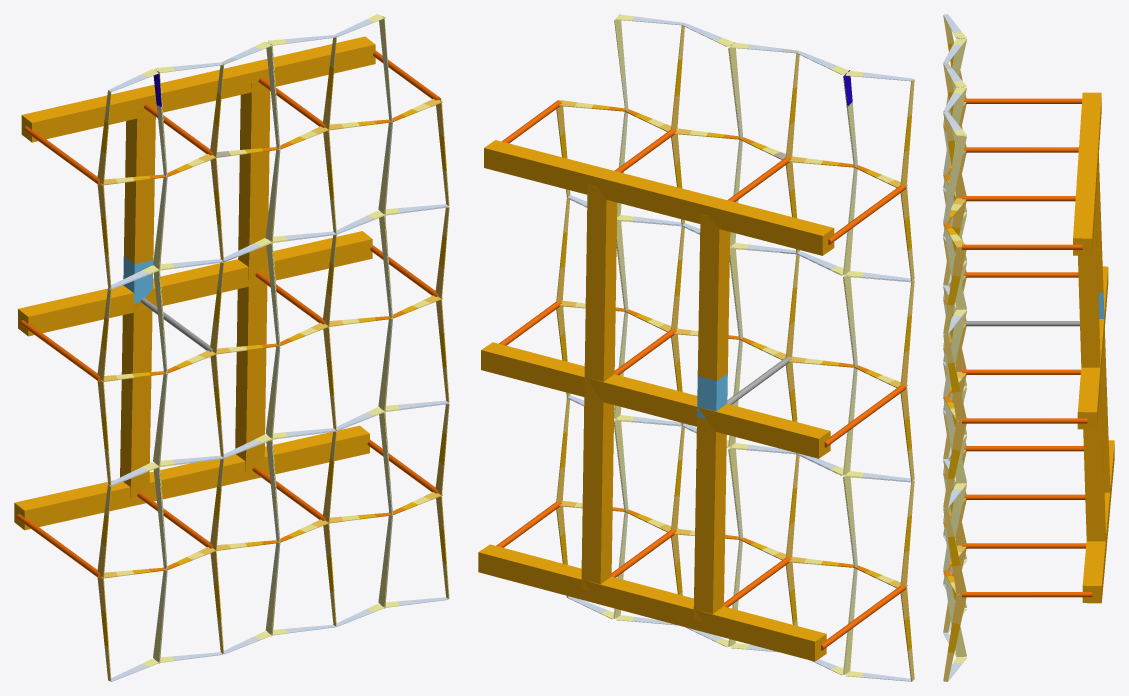
The picture shows the model from 3 angles, left to right: view 1: azimuth 30°, elevation 25°; view 2: azimuth 150°, elevation 25°; view 3: azimuth 270°, elevation 25°; orthographic projection. The views are drawn at different scales.
Visible parts, largest first — view 1: Rectangle 500/500 (×47), RO 139.7x8.0 | EN 10210-2:2006; view 2: Rectangle 500/500 (×47), RO 139.7x8.0 | EN 10210-2:2006 (×2); view 3: Rectangle 500/500 (×23), RO 139.7x8.0 | EN 10210-2:2006 (×12), Flat Bar 275/20 (×5), Flat Bar 275/12.
Part boxes in pixels (x1,y1,x2,y2): Rectangle 500/500 (×47): [14, 36, 375, 530]; RO 139.7x8.0 | EN 10210-2:2006: [17, 514, 100, 578]; Rectangle 500/500 (×47): [478, 140, 834, 661]; RO 139.7x8.0 | EN 10210-2:2006 (×2): [821, 384, 906, 650]; Rectangle 500/500 (×23): [1073, 92, 1105, 603]; RO 139.7x8.0 | EN 10210-2:2006 (×12): [962, 98, 1092, 597]; Flat Bar 275/20 (×5): [952, 246, 966, 624]; Flat Bar 275/12: [952, 135, 966, 165].
Bounding box in the file's own units: 9.14 × 15.05 × 4.48.
